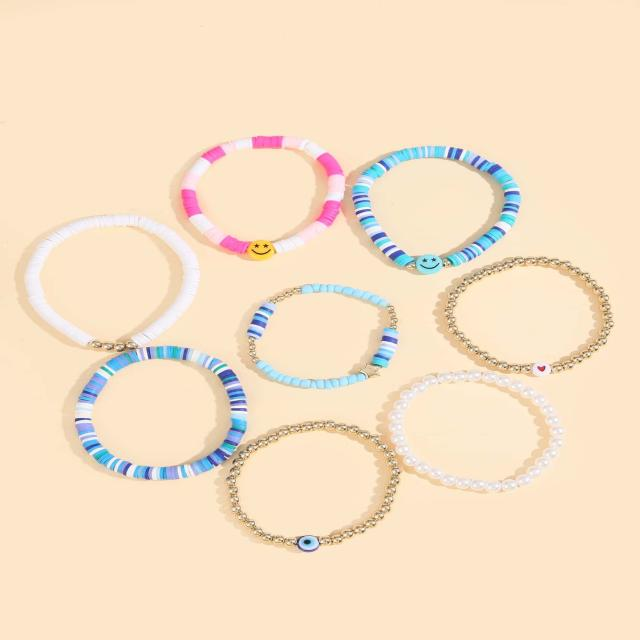bracelet: (226, 404, 460, 596), (409, 216, 640, 400), (145, 96, 373, 278), (327, 111, 544, 285), (358, 340, 567, 513), (19, 196, 256, 348), (215, 254, 423, 405), (61, 342, 261, 494)
